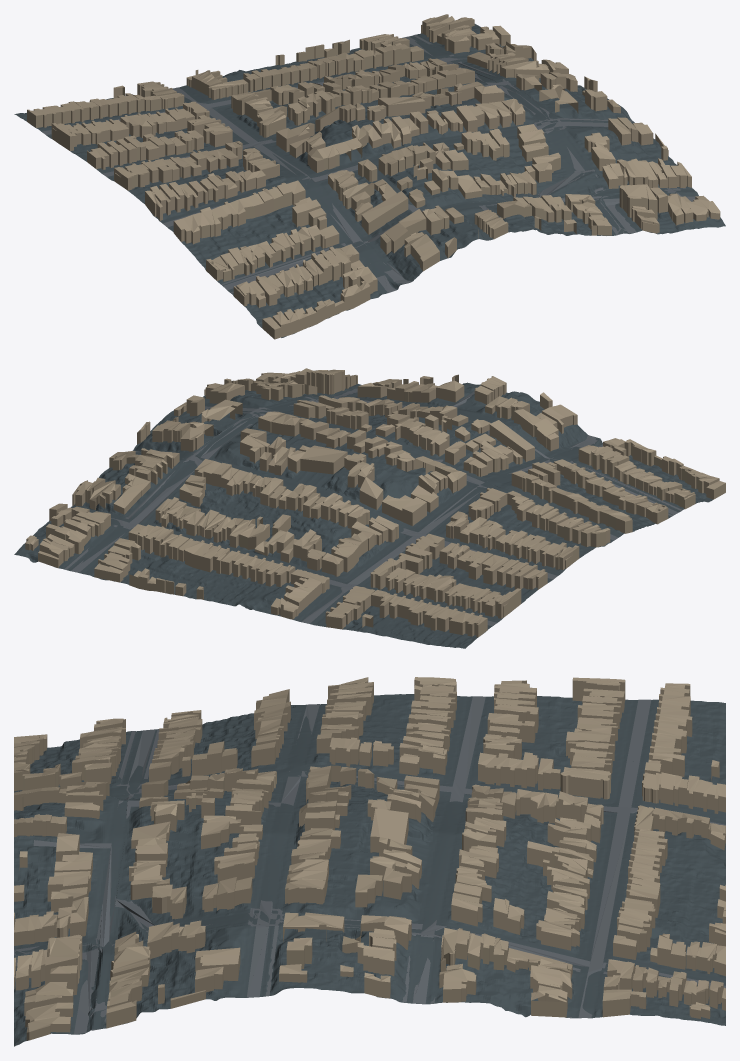
The model's file is epsg26910-1432-10882.lod0.glb.
3 views of the same model, one above another, from view 1: azimuth 30°, elevation 25°; view 2: azimuth 150°, elevation 25°; view 3: azimuth 270°, elevation 25° (orthographic). The views are drawn at different scales.
Visible parts, largest first — view 1: epsg26910-1432-10882-lod0; view 2: epsg26910-1432-10882-lod0; view 3: epsg26910-1432-10882-lod0.
Part boxes in pixels (<box>): epsg26910-1432-10882-lod0: <box>14,14,725,339</box>; epsg26910-1432-10882-lod0: <box>14,368,725,648</box>; epsg26910-1432-10882-lod0: <box>14,677,725,1046</box>.
Size of the model in its own units: 384 by 64.8 by 384.
